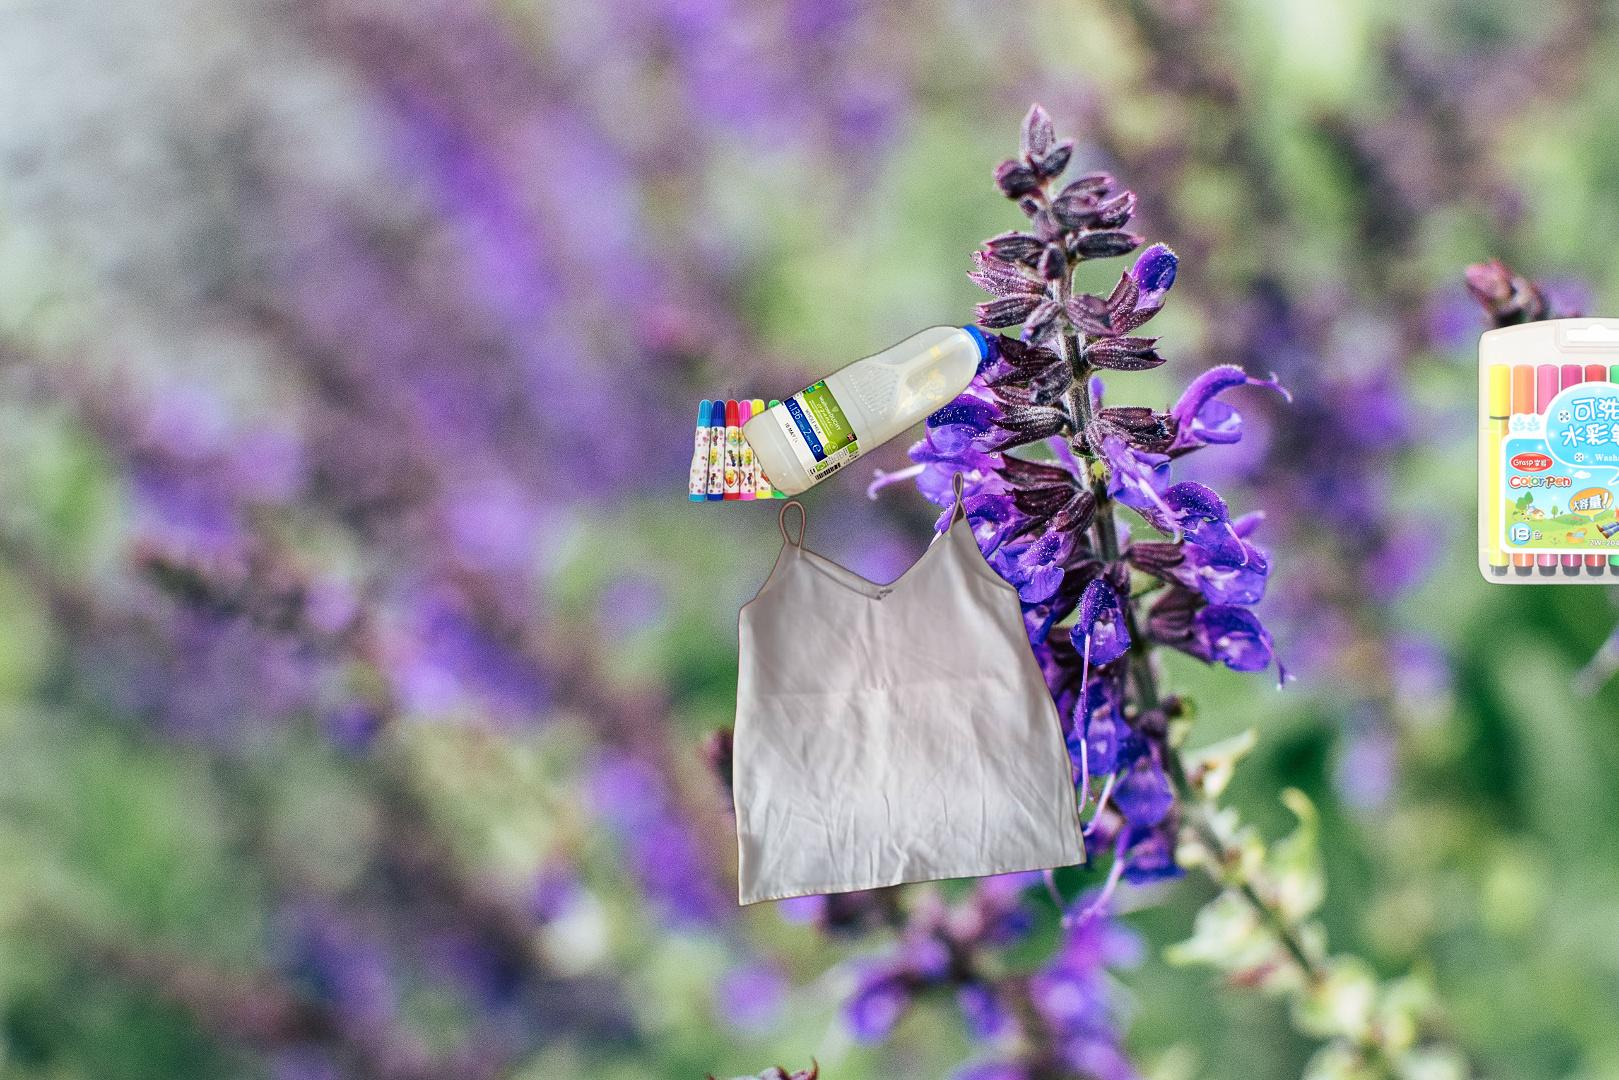clothes: (728, 466, 1090, 912)
penholder: (1476, 315, 1619, 588), (685, 385, 793, 505)
plastic-bottles: (737, 319, 993, 503)
